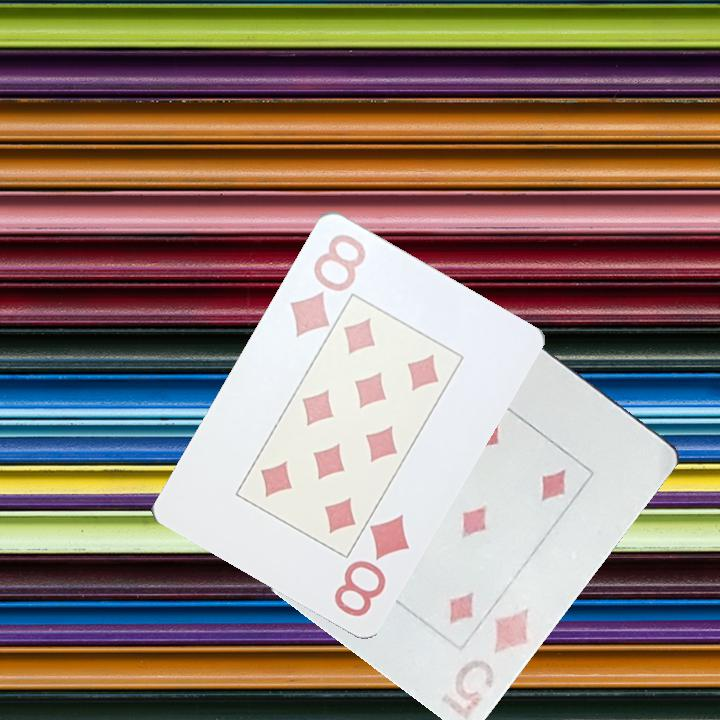5d: (450, 603, 532, 707)
8d: (286, 229, 370, 340), (330, 509, 413, 619)
